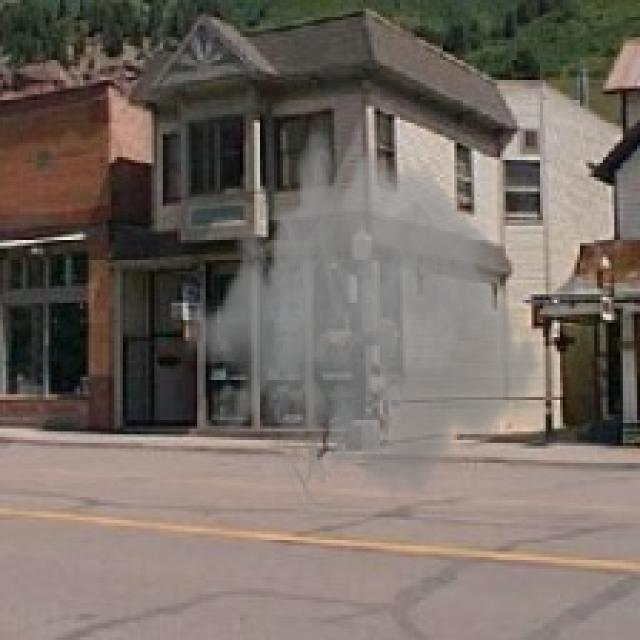smoke: (180, 111, 540, 532)
